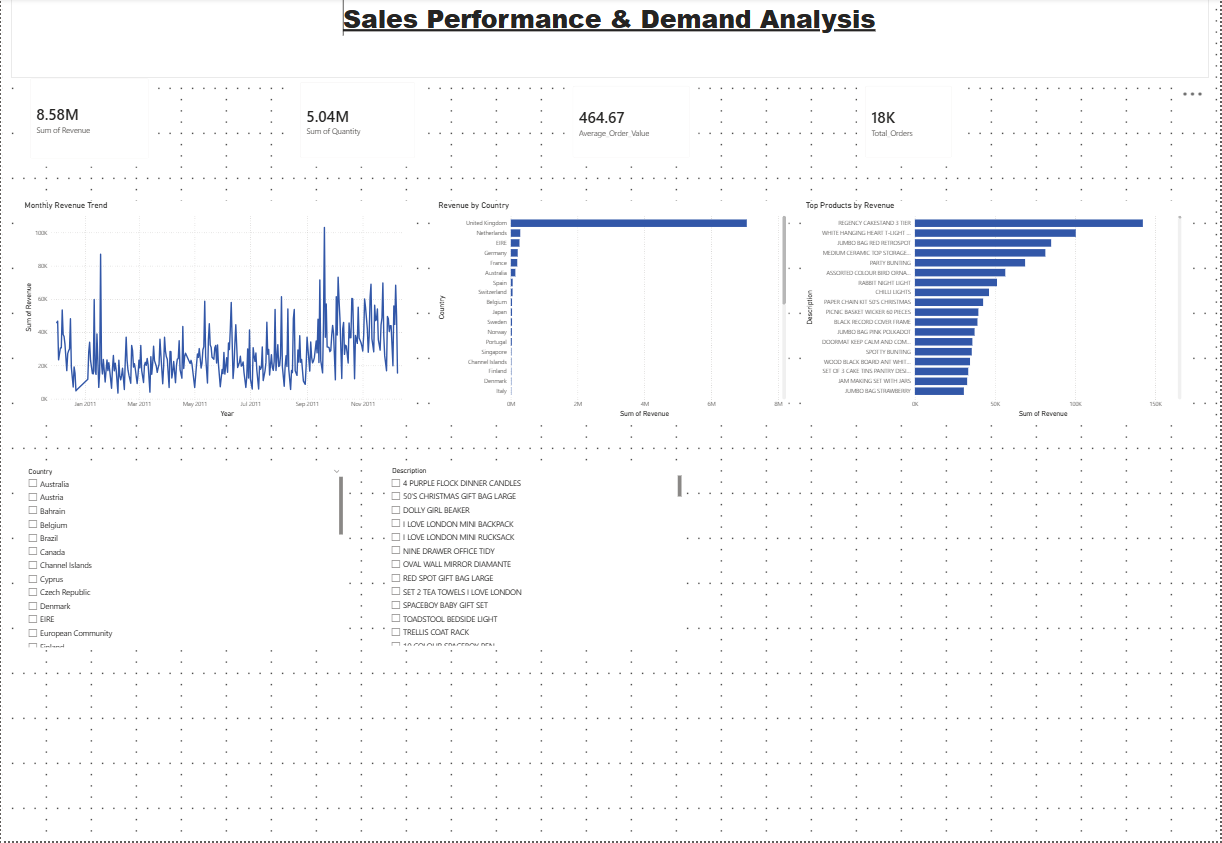

This screenshot's page, from the dashboard's own definition file:
{"tool":"powerbi","page":{"name":"Page 1","canvas":[2600,1800],"ordinal":0},"visuals":[{"type":"cardVisual","fields":{"Data":["Sum(public retail_sales.Revenue)"]},"box":[45.6,153.8,287.7,205.1],"z":0},{"type":"cardVisual","fields":{"Data":["Sum(public retail_sales.Quantity)"]},"box":[620.9,162.4,279.1,196.5],"z":1000},{"type":"cardVisual","fields":{"Data":["public retail_sales.Average_Order_Value"]},"box":[1202,170.9,284.8,188],"z":2000},{"type":"lineChart","title":"Monthly Revenue Trend","fields":{"Category":["public retail_sales.InvoiceDate.Variation.Date Hierarchy.Year","public retail_sales.InvoiceDate.Variation.Date Hierarchy.Quarter","public retail_sales.InvoiceDate.Variation.Date Hierarchy.Month","public retail_sales.InvoiceDate.Variation.Date Hierarchy.Day"],"Y":["Sum(public retail_sales.Revenue)"]},"box":[45.6,433,831.7,467.1],"z":3000},{"type":"cardVisual","fields":{"Data":["public retail_sales.Total_Orders"]},"box":[1825.8,170.9,219.3,188],"z":4000},{"type":"clusteredBarChart","title":" Revenue by Country","fields":{"Category":["public retail_sales.Country"],"Y":["Sum(public retail_sales.Revenue)"]},"box":[928.6,433,752,467.1],"z":5000},{"type":"clusteredBarChart","title":"Top Products by Revenue","fields":{"Category":["public retail_sales.Description"],"Y":["Sum(public retail_sales.Revenue)"]},"box":[1711.9,433,811.8,467.1],"z":6000},{"type":"textbox","box":[22.6,0,2552.5,169.6],"z":6001},{"type":"slicer","fields":{"Values":["public retail_sales.Country"]},"box":[45.6,996.9,689.3,393.1],"z":6002},{"type":"slicer","fields":{"Values":["public retail_sales.Description"]},"box":[820,995,635,392.5],"z":6004}]}

Visuals, with their boxes in screenshot pixels (x1, y1, x2, y2), scaled from the page's 2600x1800 canvas onto the 1222x843 screenshot:
cardVisual - Sum(public retail_sales.Revenue): [left=21, top=72, right=157, bottom=168]
cardVisual - Sum(public retail_sales.Quantity): [left=292, top=76, right=423, bottom=168]
cardVisual - public retail_sales.Average_Order_Value: [left=565, top=80, right=699, bottom=168]
"Monthly Revenue Trend" lineChart: [left=21, top=203, right=412, bottom=422]
cardVisual - public retail_sales.Total_Orders: [left=858, top=80, right=961, bottom=168]
" Revenue by Country" clusteredBarChart: [left=436, top=203, right=790, bottom=422]
"Top Products by Revenue" clusteredBarChart: [left=805, top=203, right=1186, bottom=422]
textbox: [left=11, top=0, right=1210, bottom=79]
slicer - public retail_sales.Country: [left=21, top=467, right=345, bottom=651]
slicer - public retail_sales.Description: [left=385, top=466, right=684, bottom=650]
